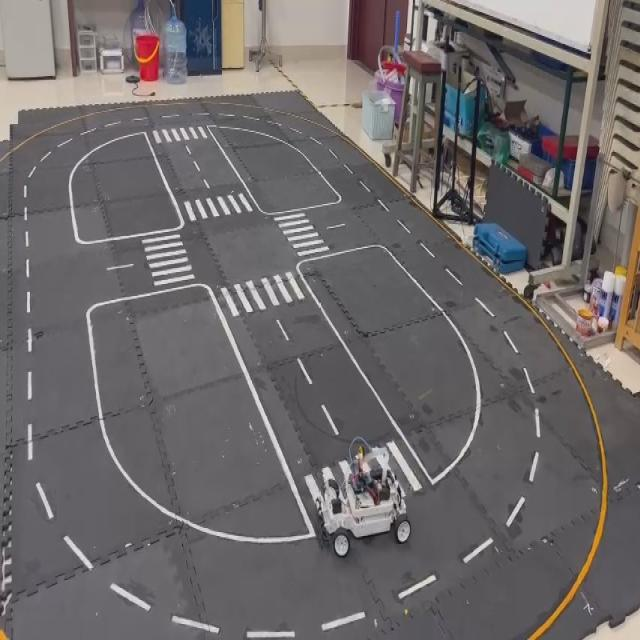SiCo-CAR: (312, 434, 411, 558)
